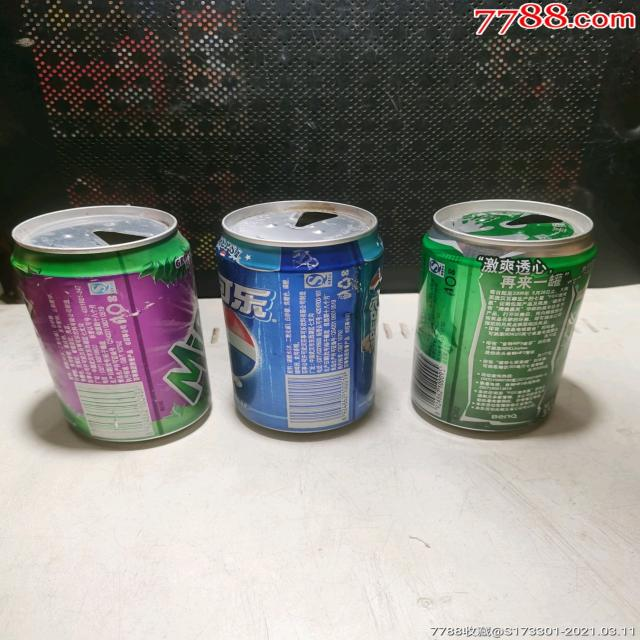can: (9, 198, 220, 451), (404, 192, 596, 440), (204, 195, 387, 441)
